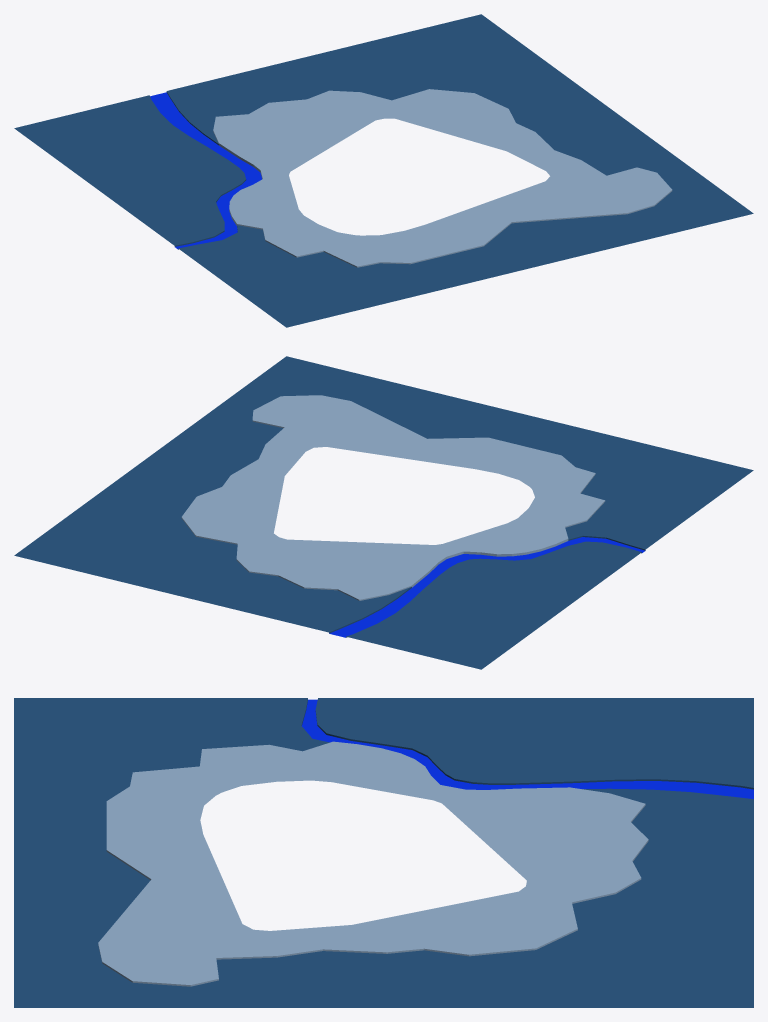
File: around.fbx
3 views of the same model, one above another, from view 1: azimuth 30°, elevation 25°; view 2: azimuth 150°, elevation 25°; view 3: azimuth 270°, elevation 25° (orthographic). The views are drawn at different scales.
Visible parts, largest first — view 1: around02, around01, river; view 2: around02, around01, river; view 3: around02, around01, river.
Boxes of the visible parts, <box> form: around02: <box>14,14,753,327</box>; around01: <box>213,89,672,267</box>; river: <box>150,92,261,249</box>; around02: <box>14,356,753,669</box>; around01: <box>181,395,605,600</box>; river: <box>329,537,645,637</box>; around02: <box>14,698,753,1007</box>; around01: <box>98,741,648,986</box>; river: <box>302,699,753,799</box>.
Bounding box in the file's own units: 43243 × 387 × 43656.
